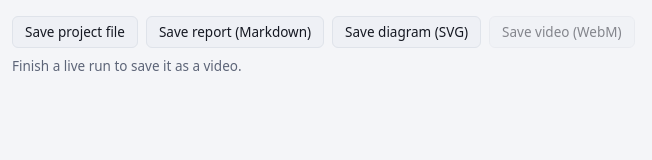
Scenario: ExportBar › saves the project file with the report under a safe default name
Click the button "Save project file": (75, 32) [12,16,138,48]
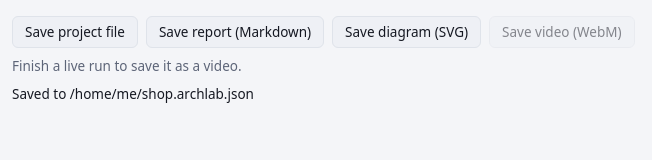
Expected: the message reads "Saved to /home/me/shop.archlab.json", [12,85,254,103]
